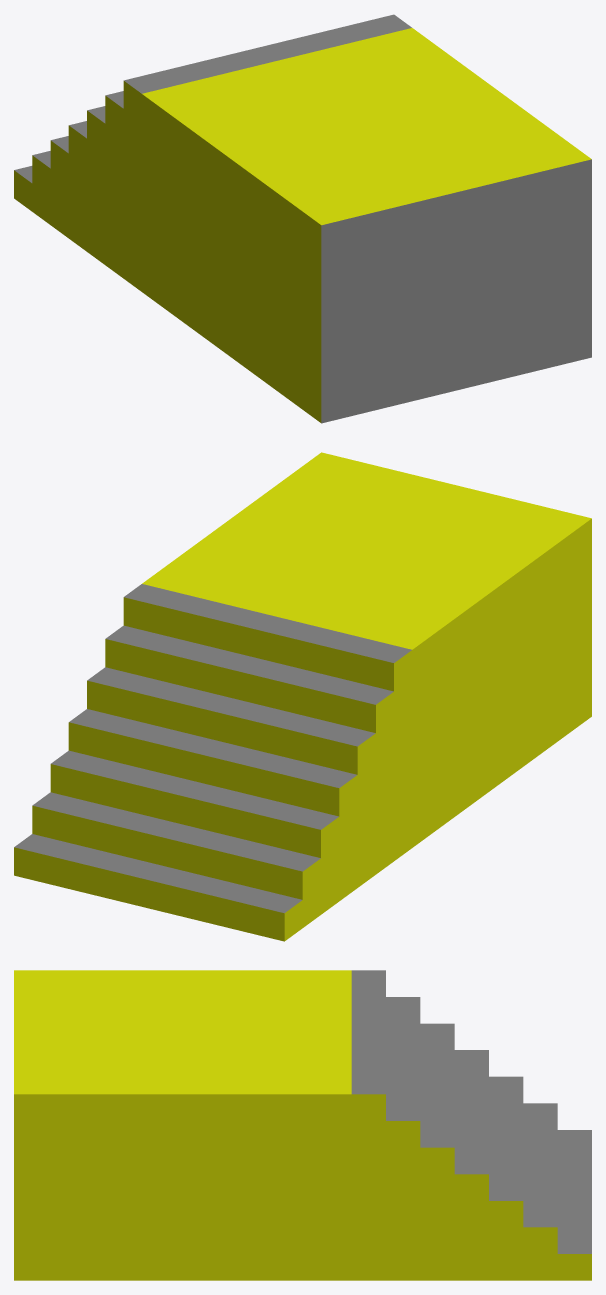
File: Problem_1.glb
3 renders of one model, top to bottom at view 1: azimuth 30°, elevation 25°; view 2: azimuth 150°, elevation 25°; view 3: azimuth 270°, elevation 25°, orthographic. The views are drawn at different scales.
Visible parts, largest first — view 1: Problem_1; view 2: Problem_1; view 3: Problem_1.
Part boxes in pixels (x1,y1,x2,y2): Problem_1: [14, 14, 591, 423]; Problem_1: [14, 452, 591, 941]; Problem_1: [14, 970, 591, 1280].
Bounding box in the file's own units: 2 × 1.4 × 3.94.
